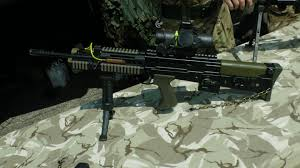gun: (25, 23, 282, 142)
